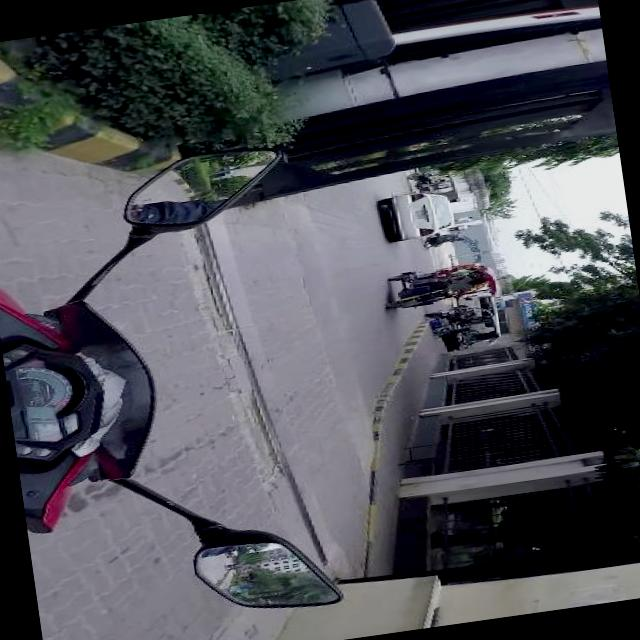car: (378, 187, 455, 244)
motorcycle: (0, 133, 354, 640), (384, 258, 500, 311), (409, 167, 461, 204), (452, 302, 500, 342), (425, 306, 467, 322)
truck: (458, 291, 502, 344)
